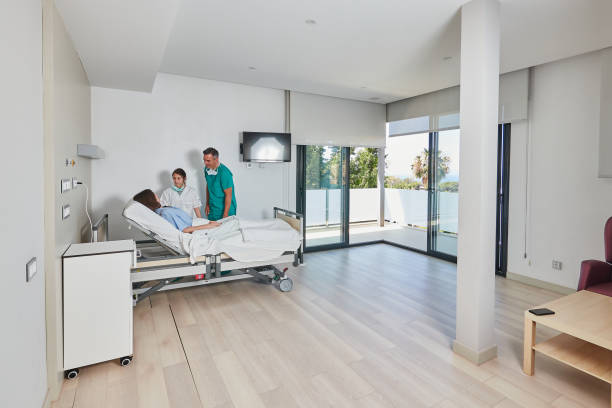TV: (243, 131, 291, 162)
bedside_table: (61, 238, 141, 380)
foot_board: (273, 206, 304, 264)
hospital_bed: (92, 206, 303, 307)
patient: (133, 189, 282, 237)
sofa: (577, 216, 612, 297)
staff: (203, 147, 235, 221), (160, 168, 203, 219)
table: (523, 289, 612, 408)
